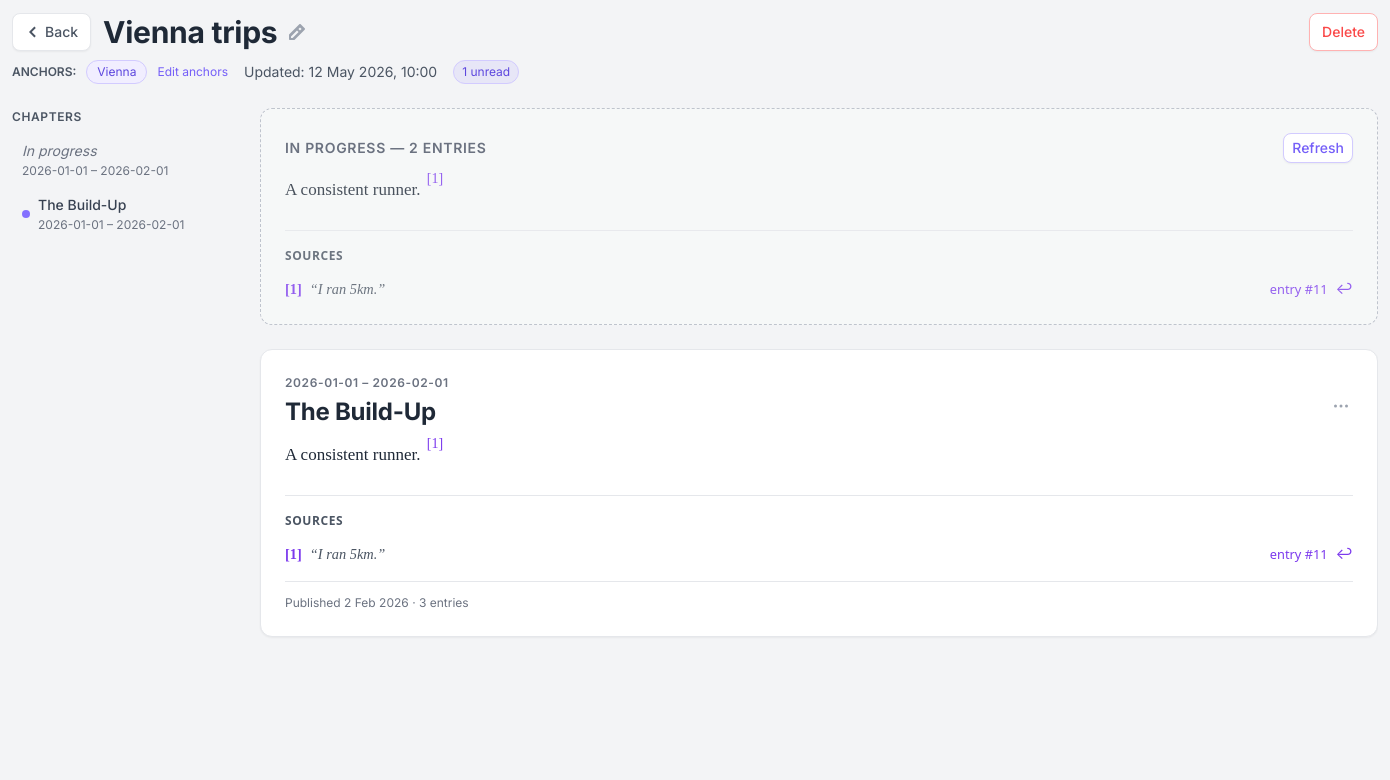
Test case: StorylineDetailView — header flows › title edit cancel restores the heading without saving
Click the button with test id "edit-name-button": (297, 32) left=289, top=24, right=305, bottom=40
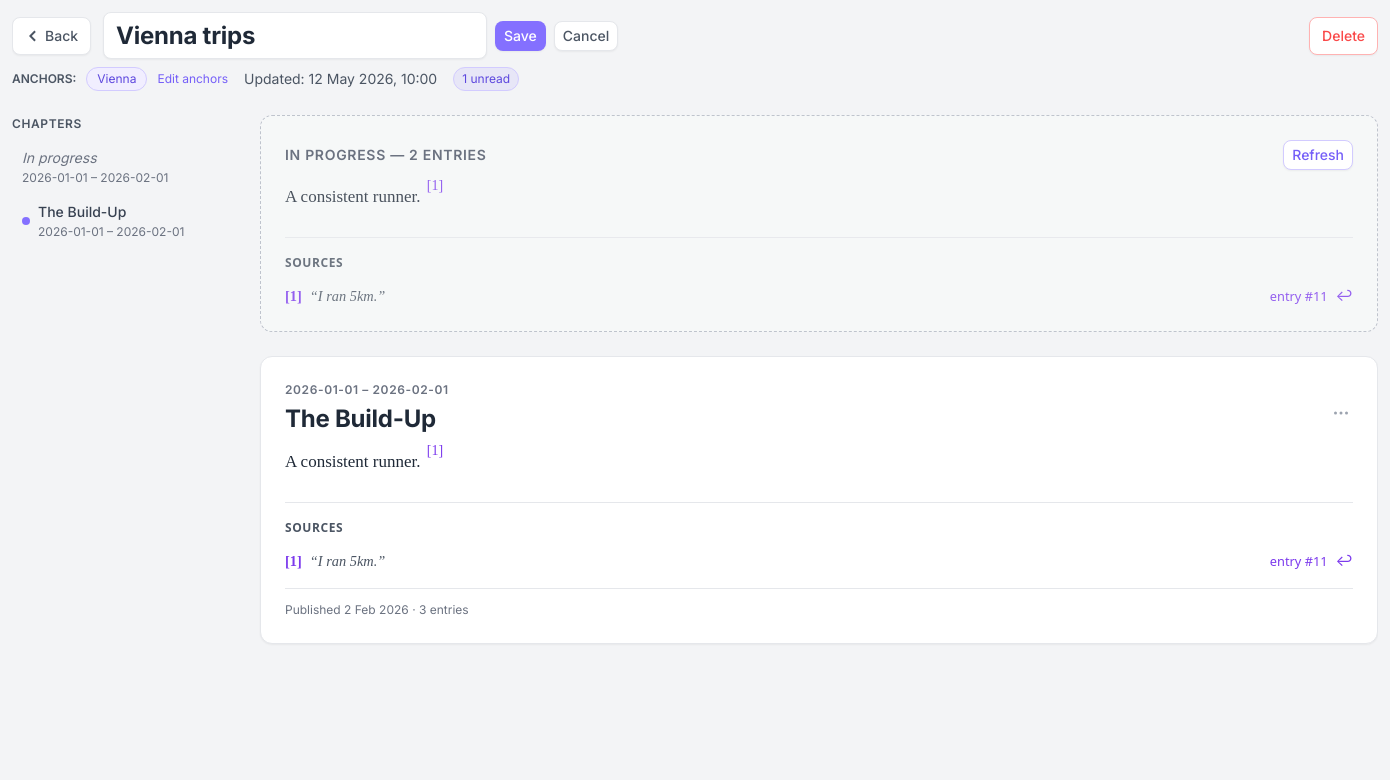
Click the button with test id "cancel-name-button": (586, 36) left=554, top=20, right=618, bottom=50
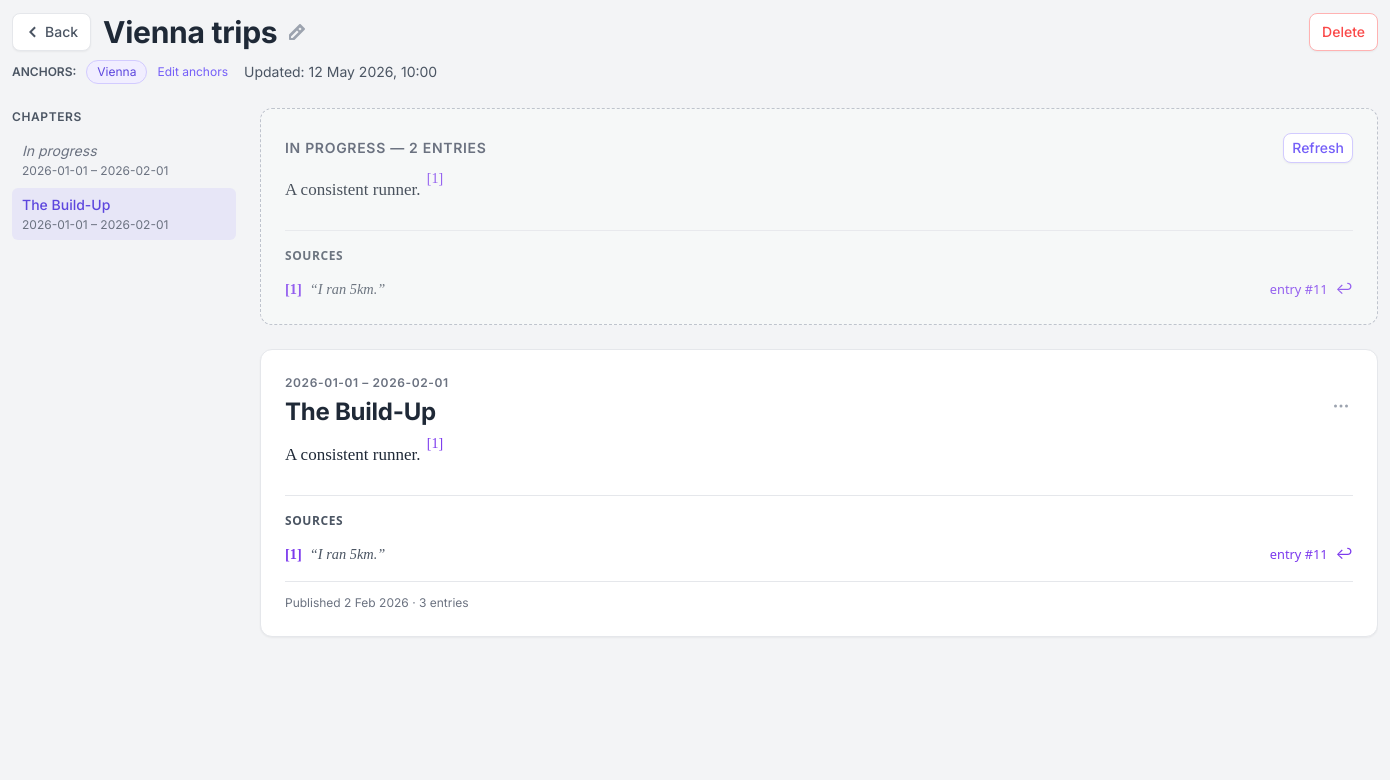
Expected: the heading "Vienna trips" is shown, left=103, top=12, right=277, bottom=52
